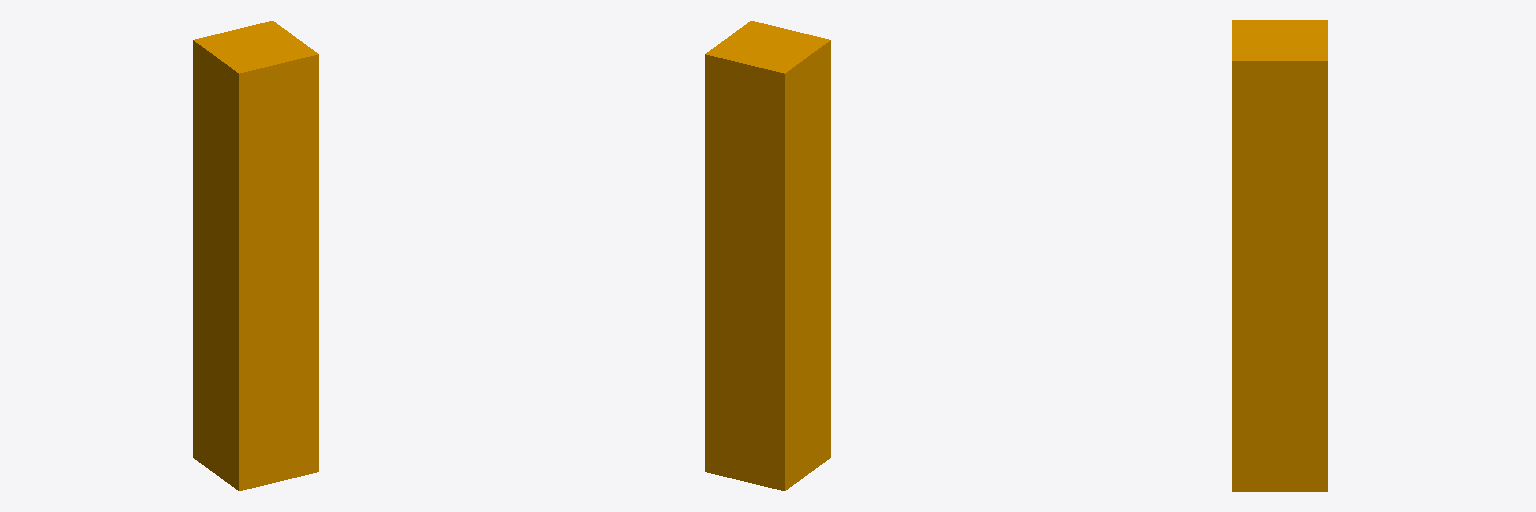
robot.urdf — box:
<?xml version='1.0' encoding='UTF-8'?>
<robot name="box">
  <link name="base_link">
    <inertial>
      <origin xyz="0.0 0.0 0.0" rpy="0.0 -0.0 0.0"/>
      <mass value="1.0"/>
      <inertia ixx="1.0" ixy="0.0" ixz="0.0" iyy="1.0" iyz="0.0" izz="1.0"/>
    </inertial>
    <visual name="base_link_visual">
      <geometry>
        <box size="0.4 0.4 2.0"/>
      </geometry>
      <origin xyz="0 0 1.0" rpy="0 0 0"/>
    </visual>
    <collision name="base_link_collision">
      <geometry>
        <box size="0.4 0.4 2.0"/>
      </geometry>
      <origin xyz="0 0 1.0" rpy="0 0 0"/>
    </collision>
  </link>
</robot>

--- What the picture shows (computed from the rendered views, not written in the file) ---
Views: 3 orthographic renders of the robot side by side, from view 1: azimuth 30°, elevation 25°; view 2: azimuth 150°, elevation 25°; view 3: azimuth 270°, elevation 25°.
Robot: box — 1 links, 0 joints (none); root link base_link; default pose: all joints at 0.
Links seen in each view (by area): view 1: base_link; view 2: base_link; view 3: base_link.
Link boxes in pixels (box(x1,y1,x2,y2)): base_link: box(193, 21, 318, 490); base_link: box(705, 21, 830, 490); base_link: box(1232, 20, 1327, 491).
Size in the robot's own frame: 0.4 by 0.4 by 2 metres.
Geometry: primitives only (box / cylinder / sphere), no mesh files.